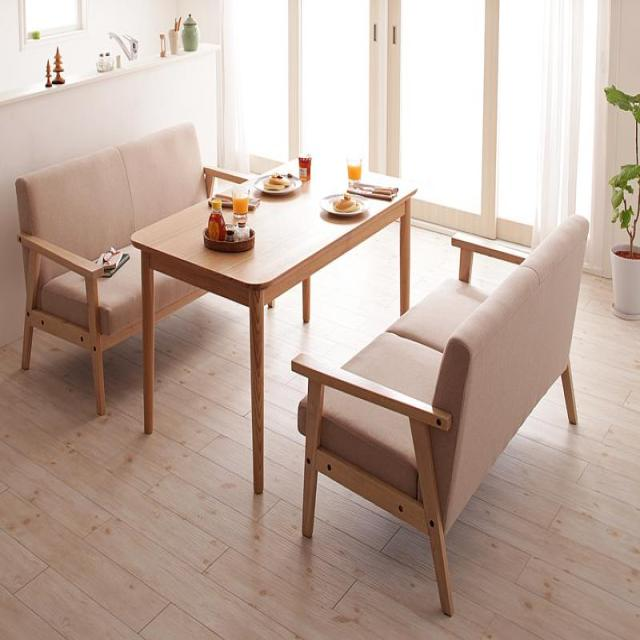natural desk: (128, 152, 424, 508)
natural sofa: (293, 203, 591, 618), (12, 123, 208, 410)
